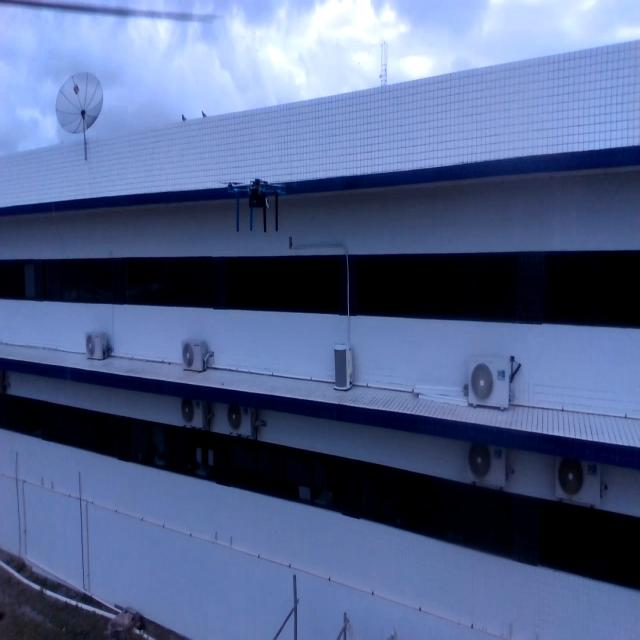-uav-: (214, 166, 300, 246)
